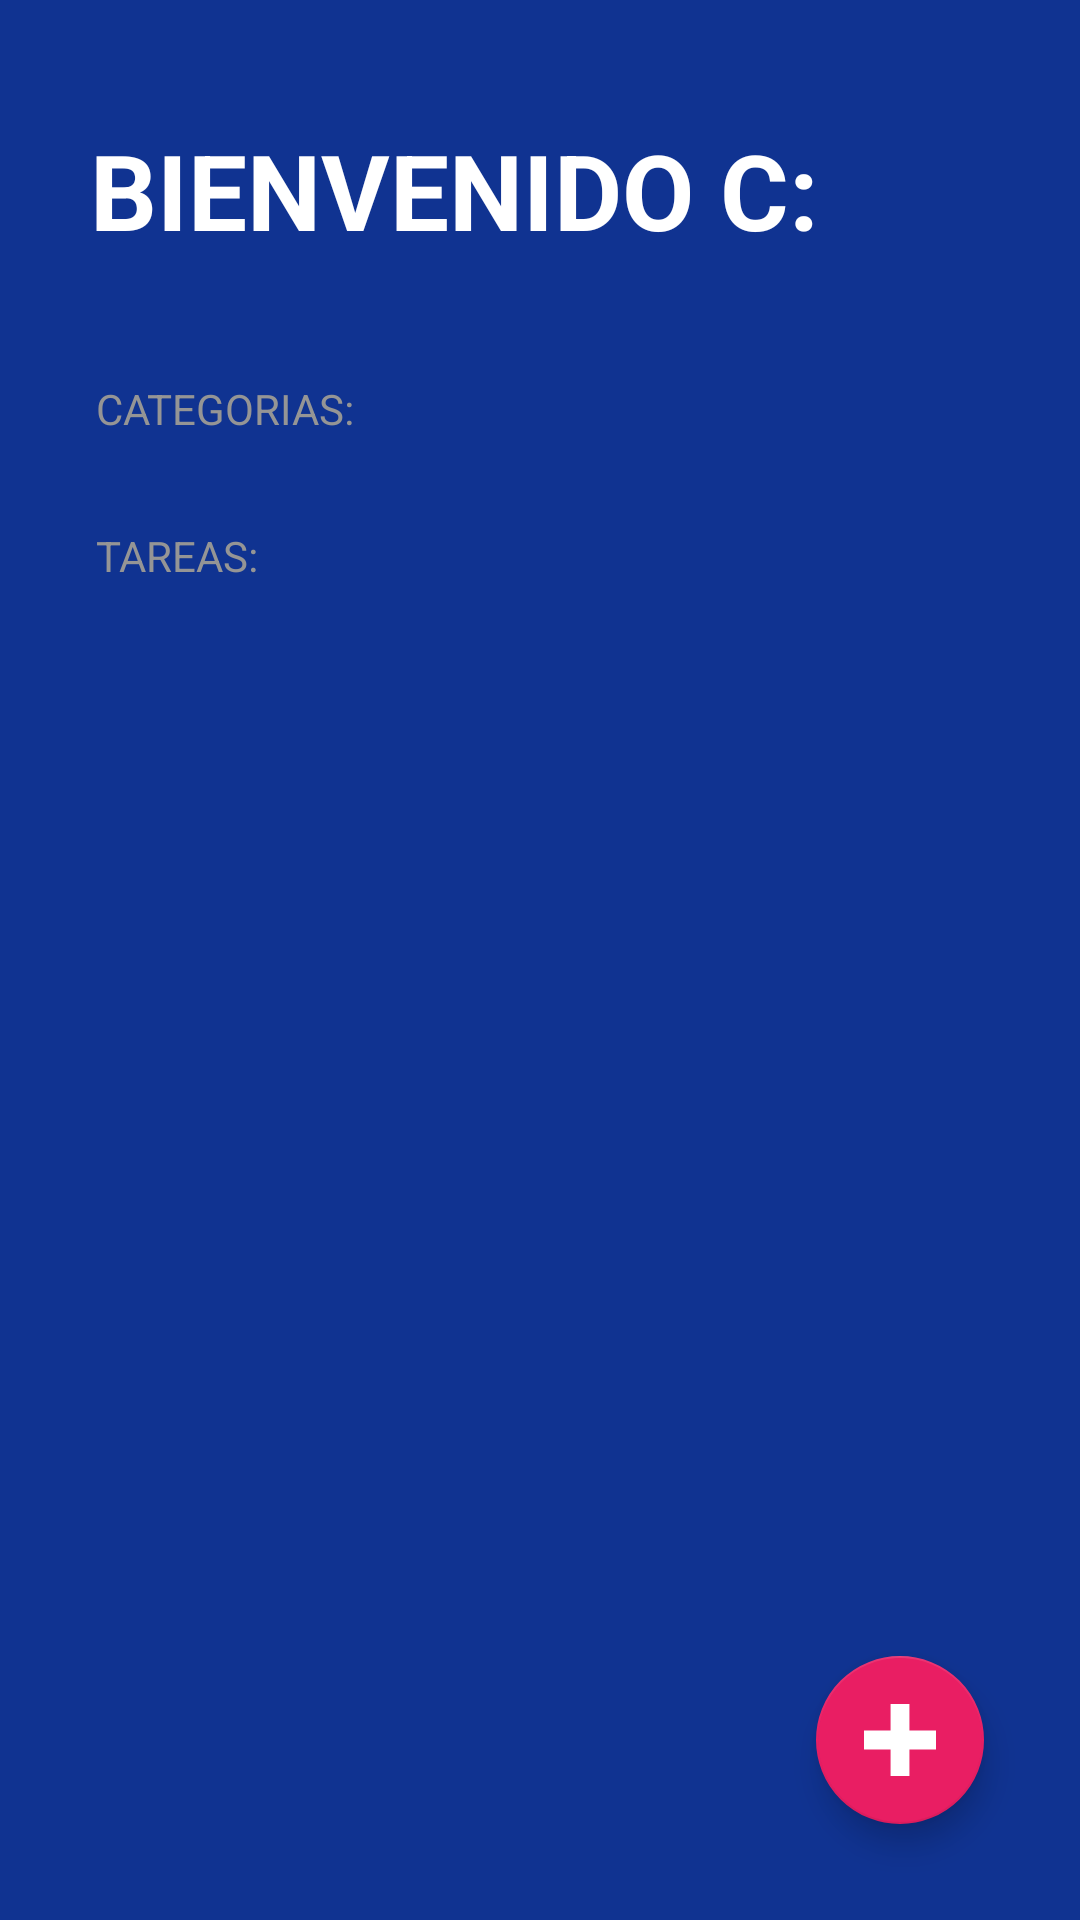

Named icons in this screenshot (1080 × 1920) and their centers, (x,y):
mas: (900,1740)
